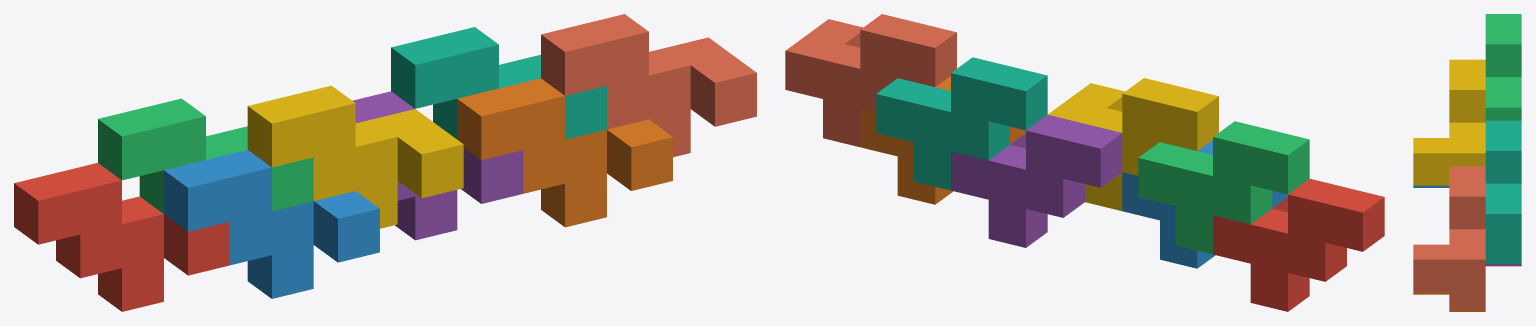
Rendered from tiling.obj.
3 renders of one model, left to right at view 1: azimuth 30°, elevation 25°; view 2: azimuth 150°, elevation 25°; view 3: azimuth 270°, elevation 25°, orthographic. The views are drawn at different scales.
Visible parts, largest first — view 1: copy_1_domain_1, copy_1_domain_4, copy_1_domain_8, copy_1_domain_2, copy_1_domain_6, copy_1_domain_3, copy_1_domain_7, copy_1_domain_5; view 2: copy_1_domain_3, copy_1_domain_7, copy_1_domain_1, copy_1_domain_5, copy_1_domain_8, copy_1_domain_4, copy_1_domain_6, copy_1_domain_2; view 3: copy_1_domain_8, copy_1_domain_4, copy_1_domain_7, copy_1_domain_3, copy_1_domain_6, copy_1_domain_2, copy_1_domain_5.
Boxes of the visible parts, <box> form: copy_1_domain_1: <box>14,163,229,311</box>; copy_1_domain_4: <box>247,85,463,228</box>; copy_1_domain_8: <box>541,14,756,157</box>; copy_1_domain_2: <box>164,150,379,298</box>; copy_1_domain_6: <box>457,78,672,227</box>; copy_1_domain_3: <box>98,98,313,213</box>; copy_1_domain_7: <box>391,27,606,139</box>; copy_1_domain_5: <box>352,91,523,240</box>; copy_1_domain_3: <box>1138,121,1309,254</box>; copy_1_domain_7: <box>876,57,1047,190</box>; copy_1_domain_1: <box>1213,178,1384,311</box>; copy_1_domain_5: <box>951,114,1122,247</box>; copy_1_domain_8: <box>785,14,956,146</box>; copy_1_domain_4: <box>1048,78,1218,210</box>; copy_1_domain_6: <box>860,76,1025,204</box>; copy_1_domain_2: <box>1122,140,1287,268</box>; copy_1_domain_8: <box>1413,166,1485,309</box>; copy_1_domain_4: <box>1413,59,1485,185</box>; copy_1_domain_7: <box>1485,120,1521,263</box>; copy_1_domain_3: <box>1485,14,1521,120</box>; copy_1_domain_6: <box>1413,292,1485,311</box>; copy_1_domain_2: <box>1413,185,1449,187</box>; copy_1_domain_5: <box>1485,264,1521,266</box>.
Size of the model in its own units: 16 by 4 by 3.
